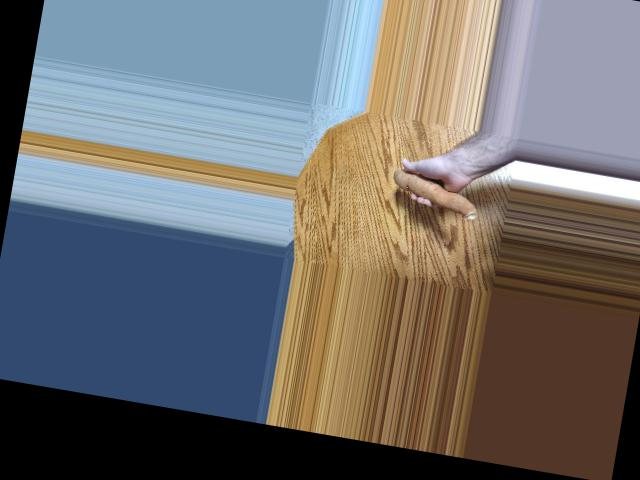sweet_potato: (389, 168, 482, 207)
